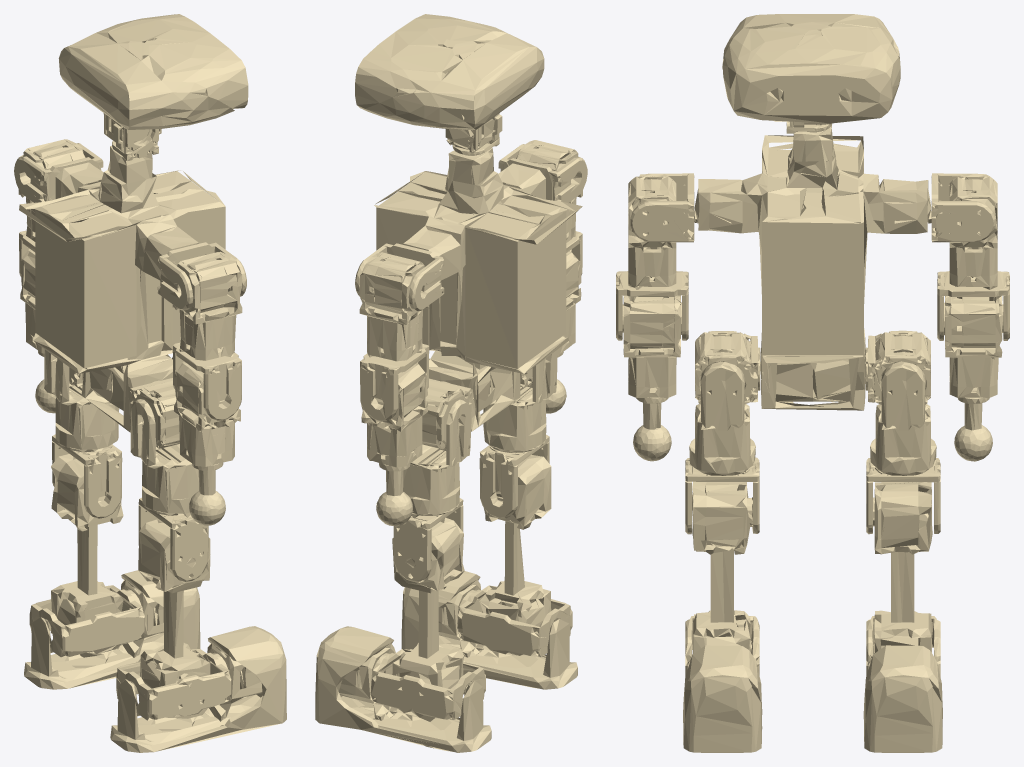
The model's file is mini-pi-plus.glb.
3 views of the same model, side by side, from view 1: azimuth 30°, elevation 25°; view 2: azimuth 150°, elevation 25°; view 3: azimuth 270°, elevation 25° (orthographic). The views are drawn at different scales.
Parts seen in each view (by area): view 1: base_link, head_pitch_link, r_ankle_roll_link, l_ankle_roll_link, l_calf_link, r_calf_link, r_shoulder_roll_link, r_hip_roll_link, r_ankle_pitch_link, r_elbow_link, l_ankle_pitch_link, l_hip_roll_link (+11 smaller); view 2: base_link, head_pitch_link, l_ankle_roll_link, r_ankle_roll_link, l_calf_link, r_calf_link, l_shoulder_roll_link, l_hip_roll_link, l_elbow_link, l_ankle_pitch_link, r_ankle_pitch_link, r_hip_roll_link (+11 smaller); view 3: base_link, head_pitch_link, r_ankle_roll_link, l_ankle_roll_link, l_calf_link, r_calf_link, l_hip_roll_link, r_hip_roll_link, r_elbow_link, l_elbow_link, l_shoulder_roll_link, r_shoulder_roll_link (+12 smaller).
Part boxes in pixels (x1,y1,x2,y2): base_link: (19,145,225,432); head_pitch_link: (58,14,248,129); r_ankle_roll_link: (110,626,286,752); l_ankle_roll_link: (24,570,200,689); l_calf_link: (50,454,123,657); r_calf_link: (138,519,210,718); r_shoulder_roll_link: (172,251,242,360); r_hip_roll_link: (130,399,198,517); r_ankle_pitch_link: (116,649,231,720); r_elbow_link: (174,361,240,466); l_ankle_pitch_link: (29,585,144,657); l_hip_roll_link: (44,349,119,452); base_link: (374,148,582,431); head_pitch_link: (355,14,544,146); l_ankle_roll_link: (315,626,491,752); r_ankle_roll_link: (401,571,577,689); l_calf_link: (392,517,464,721); r_calf_link: (479,454,551,655); l_shoulder_roll_link: (359,252,429,361); l_hip_roll_link: (403,399,471,518); l_elbow_link: (361,362,427,467); l_ankle_pitch_link: (370,649,485,719); r_ankle_pitch_link: (457,585,572,657); r_hip_roll_link: (483,349,557,452); base_link: (694,125,931,410); head_pitch_link: (722,14,900,123); r_ankle_roll_link: (683,645,762,752); l_ankle_roll_link: (863,645,942,752); l_calf_link: (874,482,932,652); r_calf_link: (692,481,750,653); l_hip_roll_link: (870,361,936,475); r_hip_roll_link: (689,361,755,475); r_elbow_link: (623,295,680,397); l_elbow_link: (945,295,1002,397); l_shoulder_roll_link: (949,174,997,289); r_shoulder_roll_link: (628,174,676,289).
Size of the model in its own units: 0.6091 by 2 by 1.05.
